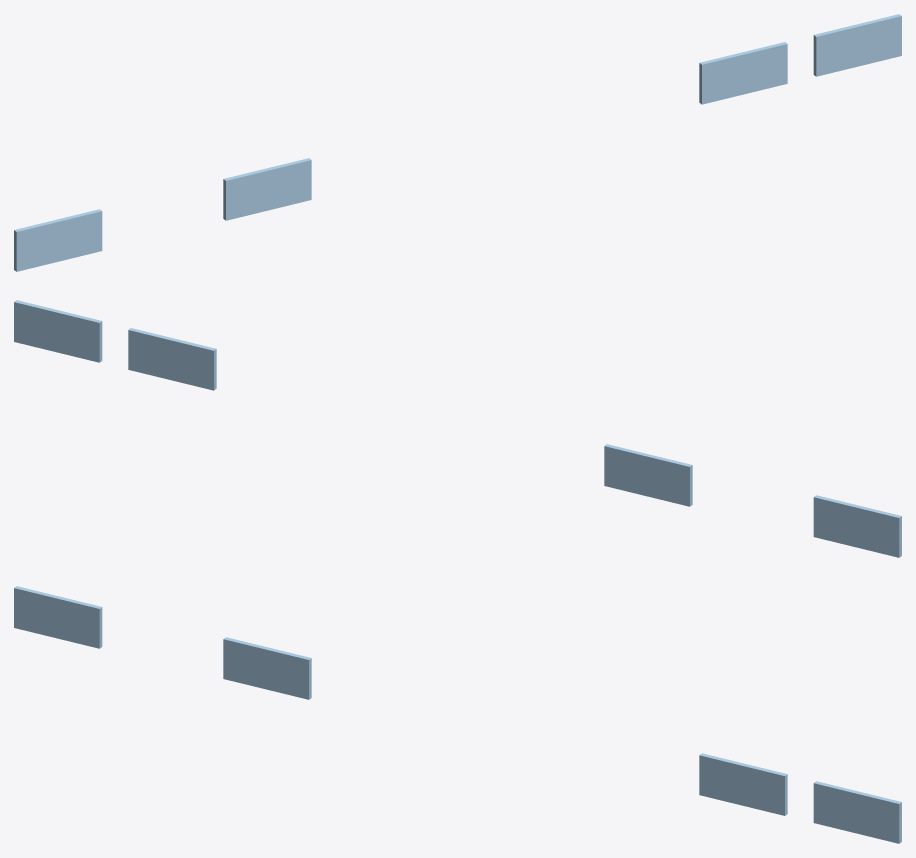
The model's file is workshop_windows.glb.
3 views of the same model, one above another, from view 1: azimuth 30°, elevation 25°; view 2: azimuth 150°, elevation 25°; view 3: azimuth 330°, elevation 25° (orthographic).
Visible parts, largest first — view 1: workshop_windows; view 2: workshop_windows; view 3: workshop_windows.
Part boxes in pixels (bbox=[...]): workshop_windows: bbox=[14, 14, 901, 271]; workshop_windows: bbox=[14, 300, 901, 557]; workshop_windows: bbox=[14, 586, 901, 843].
Bounding box in the file's own units: 9.3 × 0.4 × 0.05.
